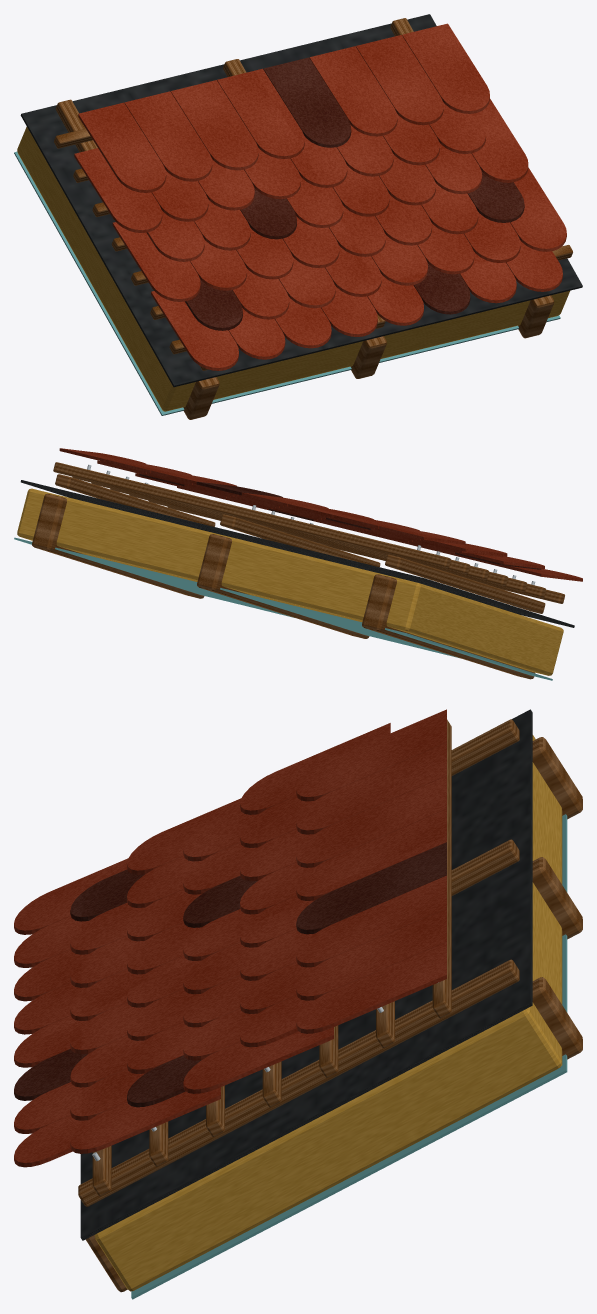
The model's file is modell.glb.
The picture shows the model from 3 angles, top to bottom: view 1: azimuth 30°, elevation 25°; view 2: azimuth 150°, elevation 25°; view 3: azimuth 270°, elevation 25°; orthographic projection. The views are drawn at different scales.
Visible parts, largest first — view 1: s01-deckziegel_deckung, s01-zusatzebene_zusatzebene, s01-daemmung_daemmung, s01-deckziegel_deckung.001, s01-lattung_lattung, s01-sparren_tragwerk, s01-luftdichtheit_luftdichtheit; view 2: s01-daemmung_daemmung, s01-lattung_lattung, s01-deckziegel_deckung, s01-sparren_tragwerk, s01-luftdichtheit_luftdichtheit, s01-zusatzebene_zusatzebene, s01-deckziegel_deckung.001; view 3: s01-deckziegel_deckung, s01-daemmung_daemmung, s01-zusatzebene_zusatzebene, s01-lattung_lattung, s01-deckziegel_deckung.001, s01-sparren_tragwerk, s01-luftdichtheit_luftdichtheit.
Part boxes in pixels (x1=…): s01-deckziegel_deckung: x1=74, y1=23, x2=566, y2=370; s01-zusatzebene_zusatzebene: x1=20, y1=14, x2=582, y2=387; s01-daemmung_daemmung: x1=17, y1=126, x2=569, y2=411; s01-deckziegel_deckung.001: x1=185, y1=57, x2=524, y2=330; s01-lattung_lattung: x1=54, y1=18, x2=572, y2=370; s01-sparren_tragwerk: x1=183, y1=295, x2=554, y2=419; s01-luftdichtheit_luftdichtheit: x1=14, y1=151, x2=560, y2=415; s01-daemmung_daemmung: x1=17, y1=488, x2=563, y2=675; s01-lattung_lattung: x1=53, y1=462, x2=564, y2=613; s01-deckziegel_deckung: x1=59, y1=448, x2=582, y2=581; s01-sparren_tragwerk: x1=32, y1=493, x2=535, y2=679; s01-luftdichtheit_luftdichtheit: x1=14, y1=537, x2=552, y2=680; s01-zusatzebene_zusatzebene: x1=20, y1=480, x2=574, y2=627; s01-deckziegel_deckung.001: x1=139, y1=474, x2=541, y2=569; s01-deckziegel_deckung: x1=14, y1=709, x2=446, y2=1167; s01-daemmung_daemmung: x1=94, y1=735, x2=562, y2=1291; s01-zusatzebene_zusatzebene: x1=80, y1=709, x2=532, y2=1240; s01-lattung_lattung: x1=78, y1=719, x2=519, y2=1206; s01-deckziegel_deckung.001: x1=14, y1=842, x2=446, y2=1107; s01-sparren_tragwerk: x1=85, y1=737, x2=582, y2=1292; s01-luftdichtheit_luftdichtheit: x1=131, y1=814, x2=567, y2=1299.
Size of the model in its own units: 1.59 by 0.8379 by 1.3.
7 materials, 5 textured.
